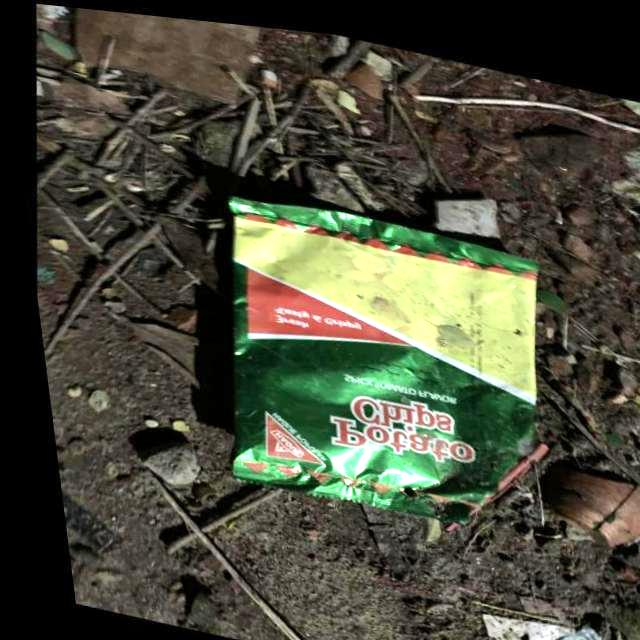packet: (182, 176, 568, 541)
